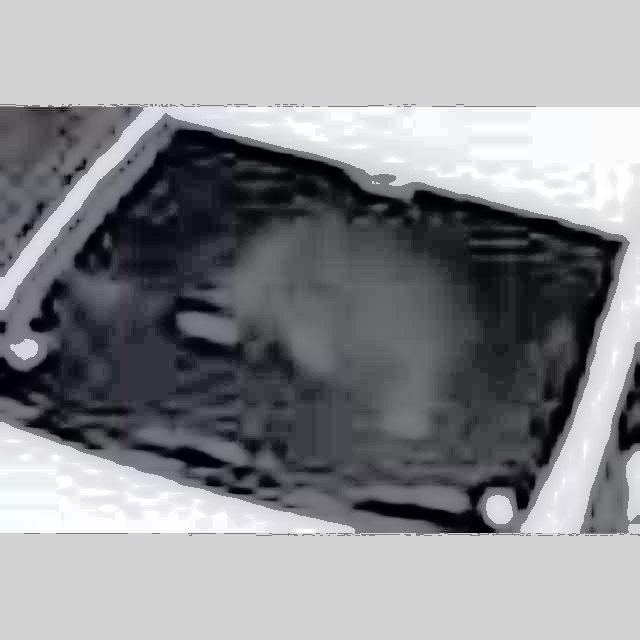tidak-pakai: (184, 181, 456, 438)
